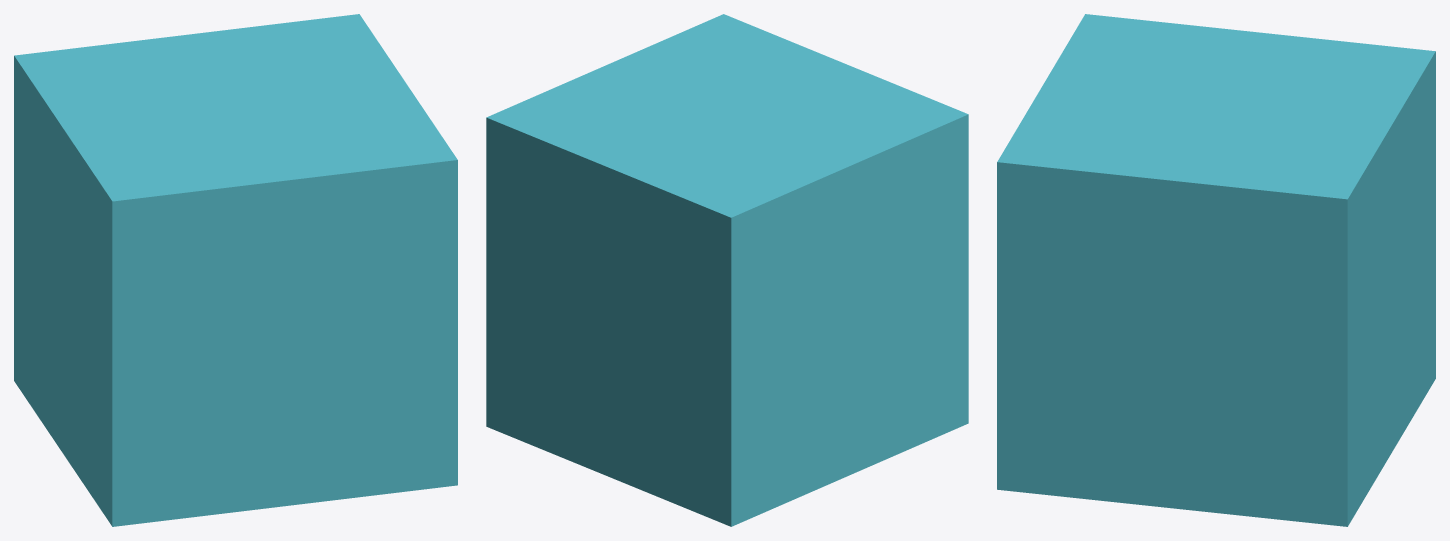
File: 1007_chimney.glb
The picture shows the model from 3 angles, left to right: view 1: azimuth 30°, elevation 25°; view 2: azimuth 150°, elevation 25°; view 3: azimuth 270°, elevation 25°; orthographic projection. The views are drawn at different scales.
Parts seen in each view (by area): view 1: Box004; view 2: Box004; view 3: Box004.
Part boxes in pixels (left/top/right/bottom): Box004: left=14, top=14, right=457, bottom=526; Box004: left=486, top=14, right=968, bottom=526; Box004: left=997, top=14, right=1435, bottom=526.
Bounding box in the file's own units: 1.01 × 0.8302 × 1.01.
